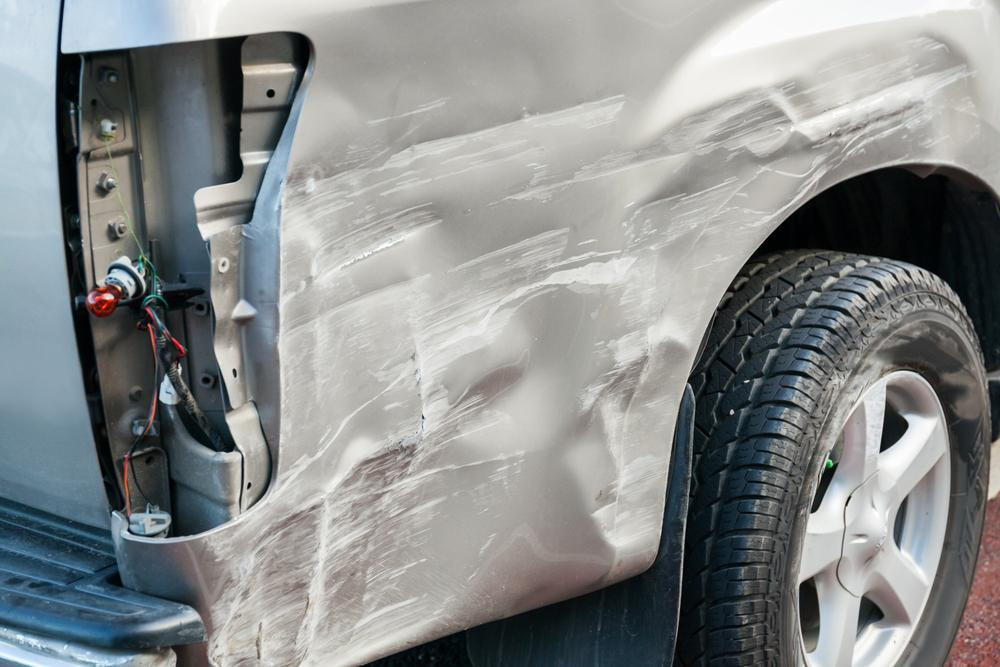dent: (189, 4, 980, 667)
lamp broken: (68, 31, 314, 542)
